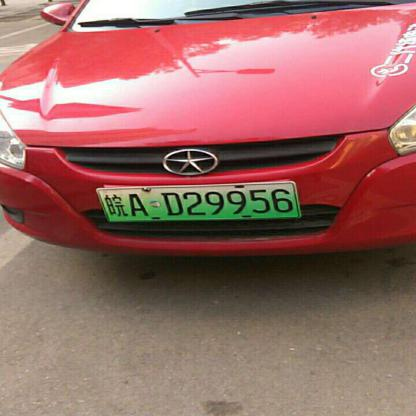lp: (96, 182, 298, 221)
